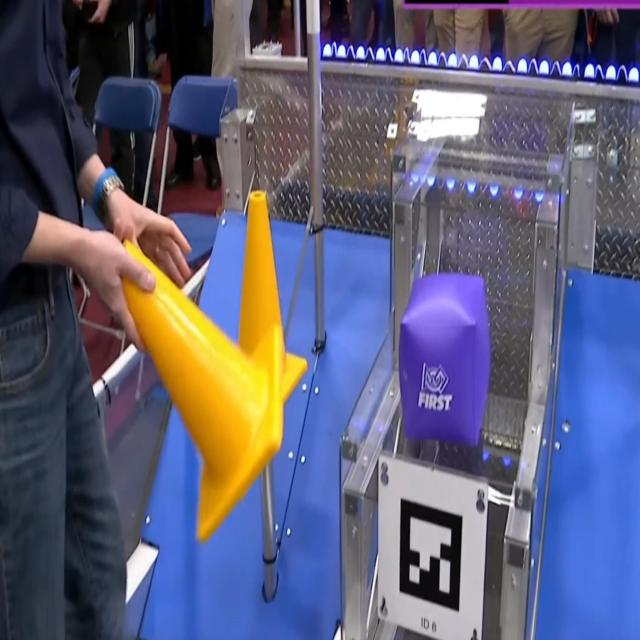frc_cone: (122, 218, 303, 545), (212, 192, 307, 418)
frc_cube: (400, 274, 492, 447)
